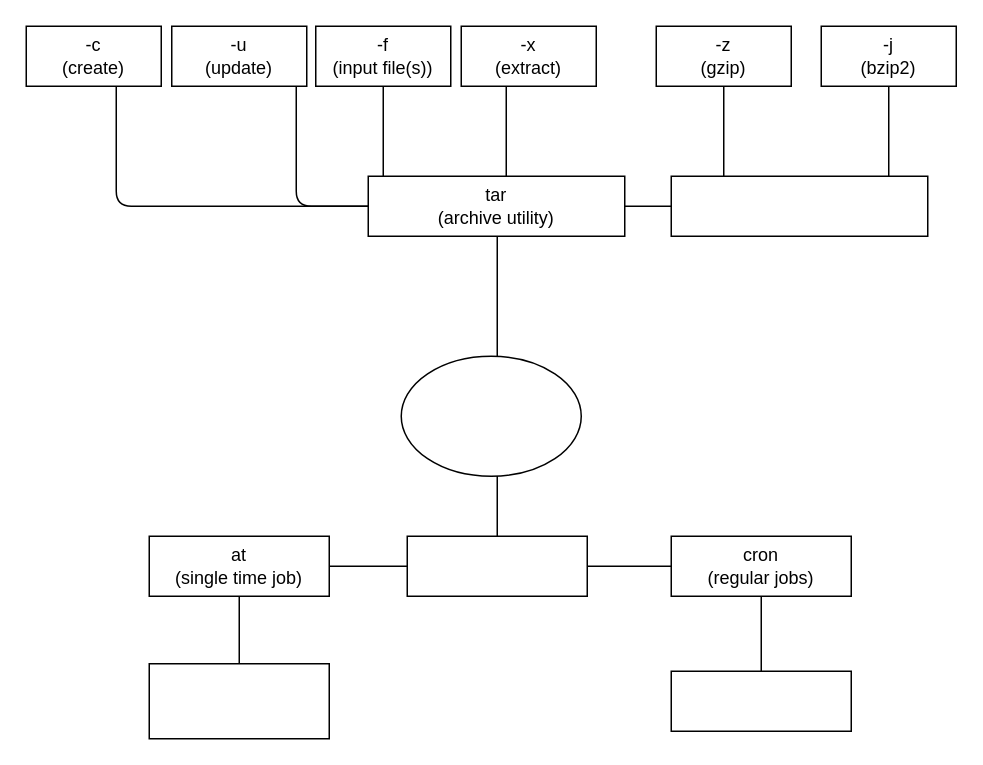
The diagram is 983 pixels wide and 765 high, and some of its shapes have lost their labels. Each missing label, with the centre of its shape:
Archives / plannification: point 490,415
at 22:00 (run the following commands at 22:00): point 238,700
compression: point 799,205
crontab -e (edit crontab job file): point 760,700
timed jobs: point 496,565
